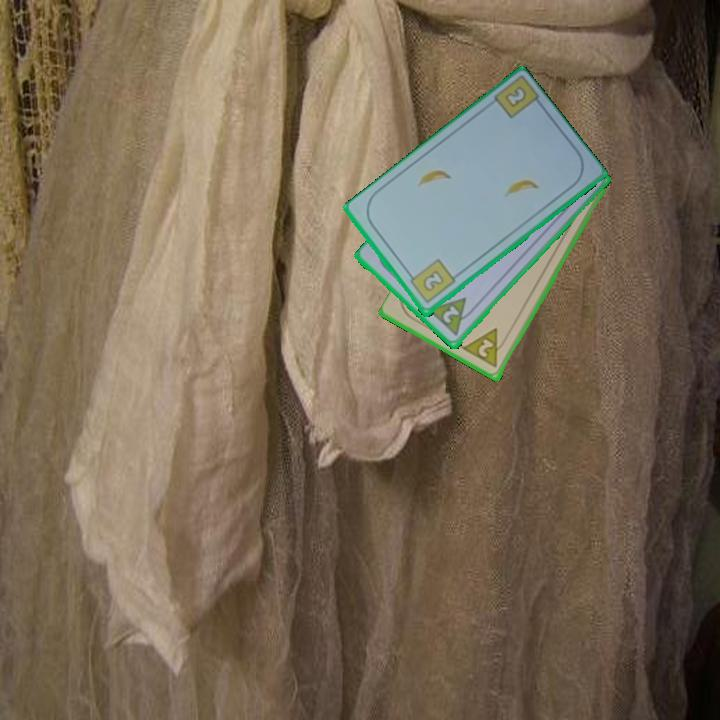2b: (404, 256, 458, 307), (501, 83, 530, 111)
2p: (425, 294, 479, 340), (461, 325, 512, 371)
